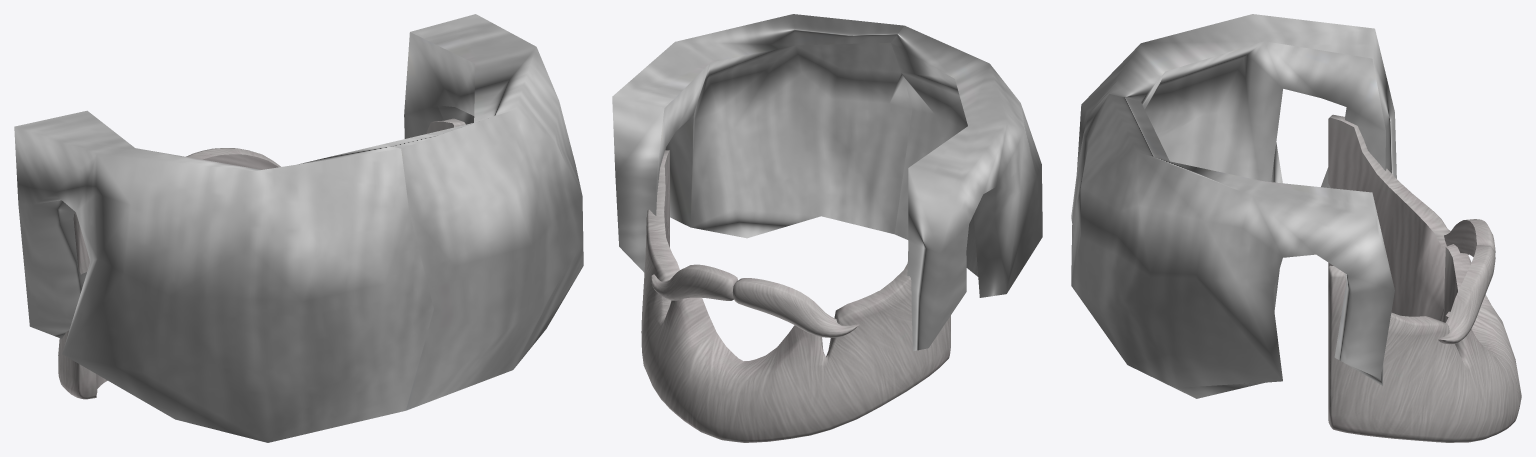
Rendered from acc.glb.
The picture shows the model from 3 angles, left to right: view 1: azimuth 30°, elevation 25°; view 2: azimuth 150°, elevation 25°; view 3: azimuth 270°, elevation 25°; orthographic projection. The views are drawn at different scales.
Visible parts, largest first — view 1: Handle.001, Handle; view 2: Handle.001, Handle; view 3: Handle.001, Handle.
Boxes of the visible parts, x1,y1,x2,y2 form: Handle.001: (14,14,583,442); Handle: (58,118,465,399); Handle.001: (612,14,1042,351); Handle: (641,150,950,442); Handle.001: (1071,14,1396,398); Handle: (1328,114,1521,442).
Bounding box in the file's own units: 1.47 × 1.11 × 1.42.
2 materials, 2 textured.
